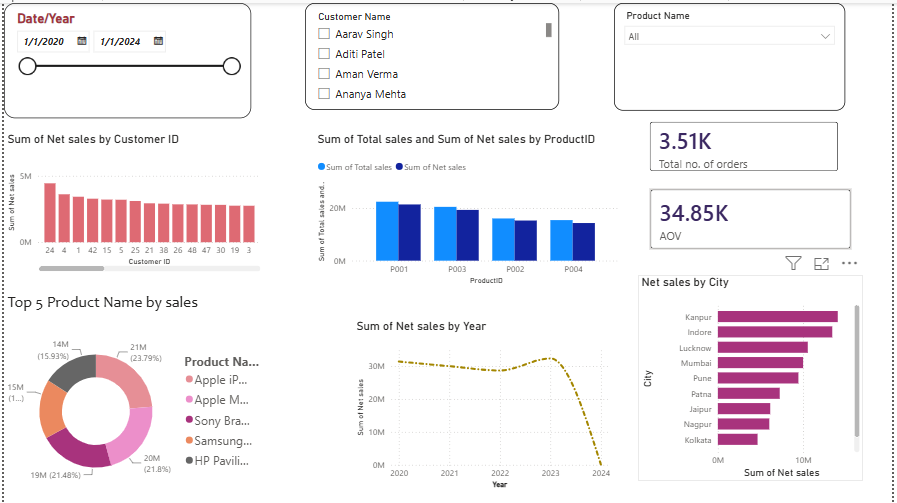

The dashboard page shown, as its layout file describes it:
{"tool":"powerbi","page":{"name":"Dashboard","canvas":[1280,720],"ordinal":5},"visuals":[{"type":"donutChart","title":"Top 5 Product Name by sales","fields":{"Category":["Dim Product.Product Name"],"Y":["Sum(fact table.Net sales)"]},"box":[0,416.6,374.6,304],"z":0},{"type":"columnChart","fields":{"Y":["Sum(fact table.Net sales)"],"Category":["Dim Customers.Customer ID"]},"box":[0,185.7,374.3,205.7],"z":1000},{"type":"lineChart","fields":{"Y":["Sum(fact table.Net sales)"],"Category":["date table 1.Date.Variation.Date Hierarchy.Year"]},"box":[502.3,455.2,375,249],"z":2000},{"type":"cardVisual","fields":{"Data":["CountNonNull(fact table.Index column)"]},"box":[912.9,154.3,305.7,105.8],"z":3000},{"type":"clusteredColumnChart","fields":{"Category":["Dim Product.ProductID"],"Y":["Sum(fact table.Total sales)","Sum(fact table.Net sales)"]},"box":[445.7,185.7,445.7,224.3],"z":4000},{"type":"slicer","fields":{"Values":["Dim Customers.Customer Name"]},"box":[432.9,0,365.7,154.3],"z":5000},{"type":"slicer","fields":{"Values":["Dim Product.Product Name"]},"box":[878.6,0,332.6,154.5],"z":6000},{"type":"slicer","fields":{"Values":["fact table.Date (dd/mm/yyyy)"]},"box":[0,0,355.7,165.7],"z":6001},{"type":"cardVisual","fields":{"Data":["Dim Customers.AOV"]},"box":[912.9,250,324.3,121.4],"z":6002},{"type":"clusteredBarChart","title":"Net sales by City","fields":{"Category":["Dim Customers.City"],"Y":["Sum(fact table.Net sales)"]},"box":[912.9,391.4,324.3,297.1],"z":6003}]}

Visuals, with their boxes in screenshot pixels (x1, y1, x2, y2), scaled from the page's 1280x720 canvas onto the 897x503 screenshot:
"Top 5 Product Name by sales" donutChart: l=0, t=291, r=263, b=502
columnChart - Sum(fact table.Net sales) x Dim Customers.Customer ID: l=0, t=130, r=262, b=273
lineChart - Sum(fact table.Net sales) x date table 1.Date.Variation.Date Hierarchy.Year: l=352, t=318, r=615, b=492
cardVisual - CountNonNull(fact table.Index column): l=640, t=108, r=854, b=182
clusteredColumnChart - Dim Product.ProductID x Sum(fact table.Total sales): l=312, t=130, r=625, b=286
slicer - Dim Customers.Customer Name: l=303, t=0, r=560, b=108
slicer - Dim Product.Product Name: l=616, t=0, r=849, b=108
slicer - fact table.Date (dd/mm/yyyy): l=0, t=0, r=249, b=116
cardVisual - Dim Customers.AOV: l=640, t=175, r=867, b=259
"Net sales by City" clusteredBarChart: l=640, t=273, r=867, b=481
